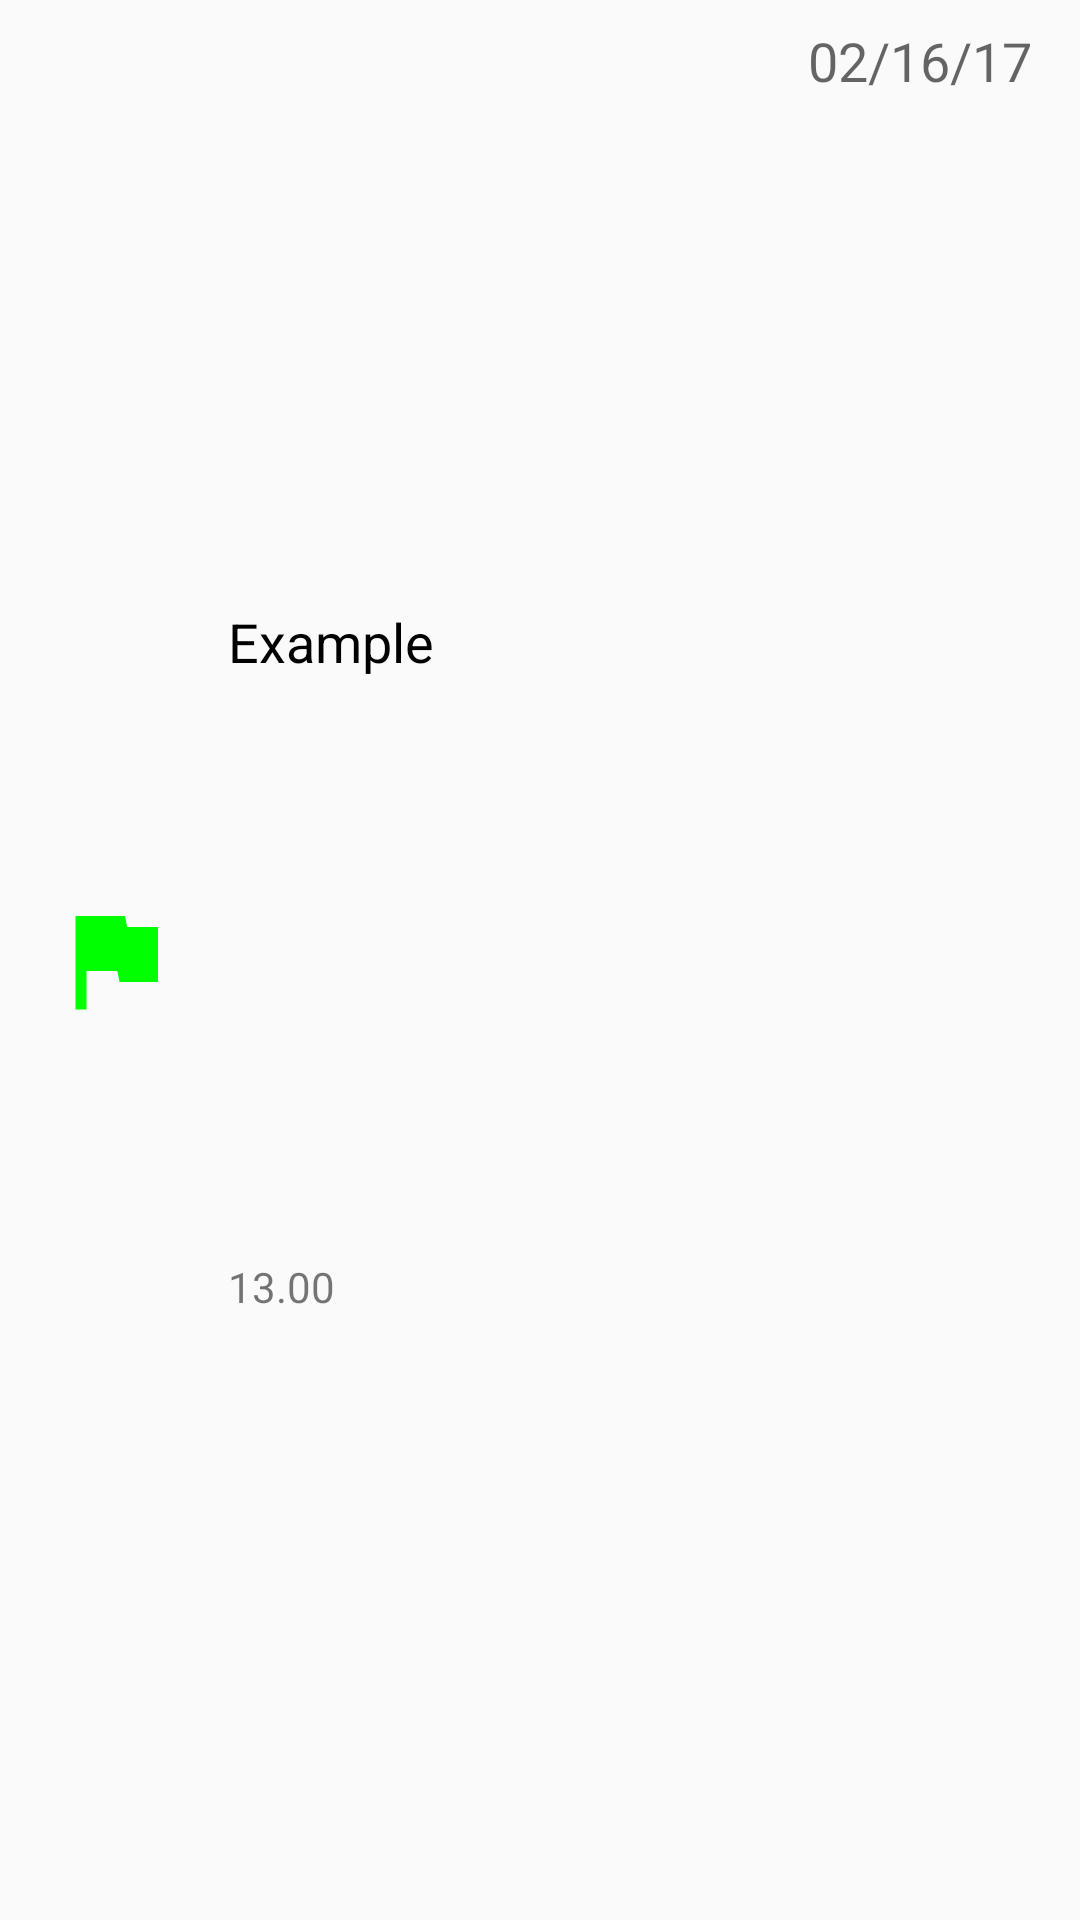

Screen size 1080 × 1920. Icon name, then its box in pixels as detection(x1, y1, x2, y2):
flag: detection(75, 916, 158, 1010)
